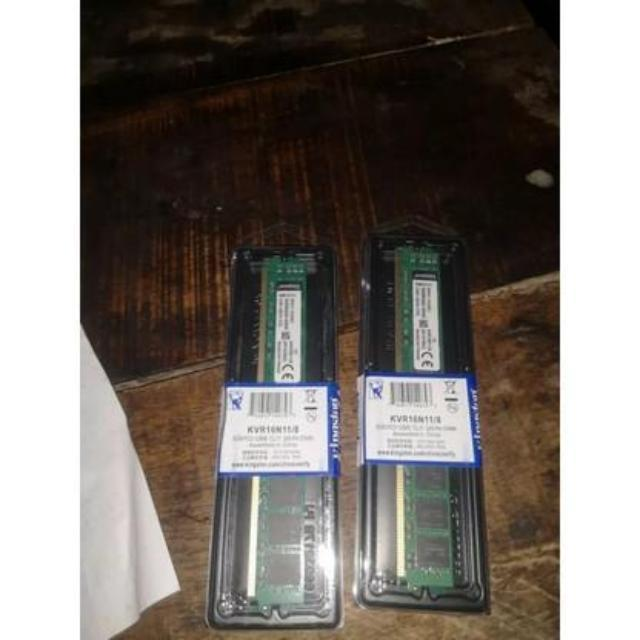RAM: (236, 265, 322, 603), (380, 236, 458, 596)
